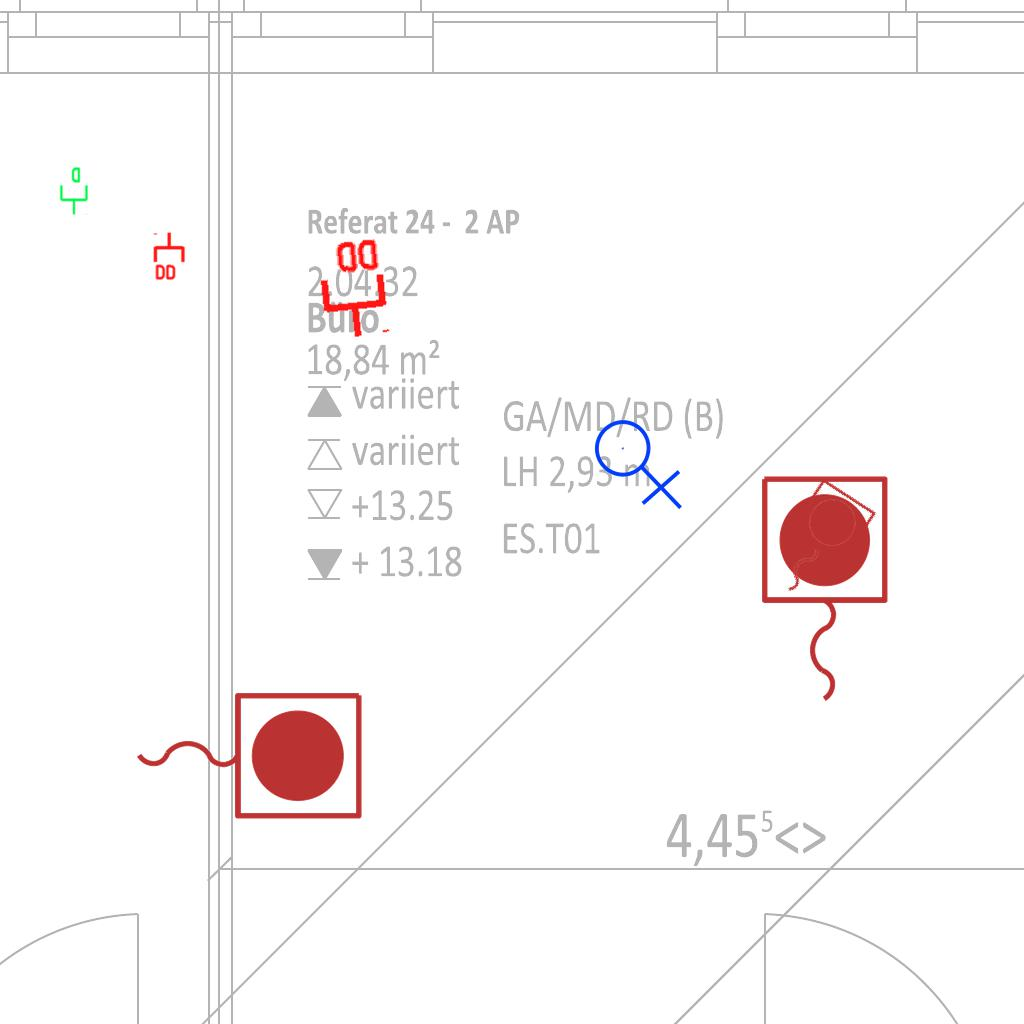Datenanschluss_einfach: (56, 166, 90, 216)
Datenanschluss_zweifach: (311, 233, 392, 344), (153, 231, 187, 282)
Elektroanschluss_allgemein_230V_Geraeteanschlussdose_230V: (593, 411, 687, 510)
Zugtaster: (126, 682, 370, 826), (751, 468, 895, 712), (754, 472, 882, 614)
